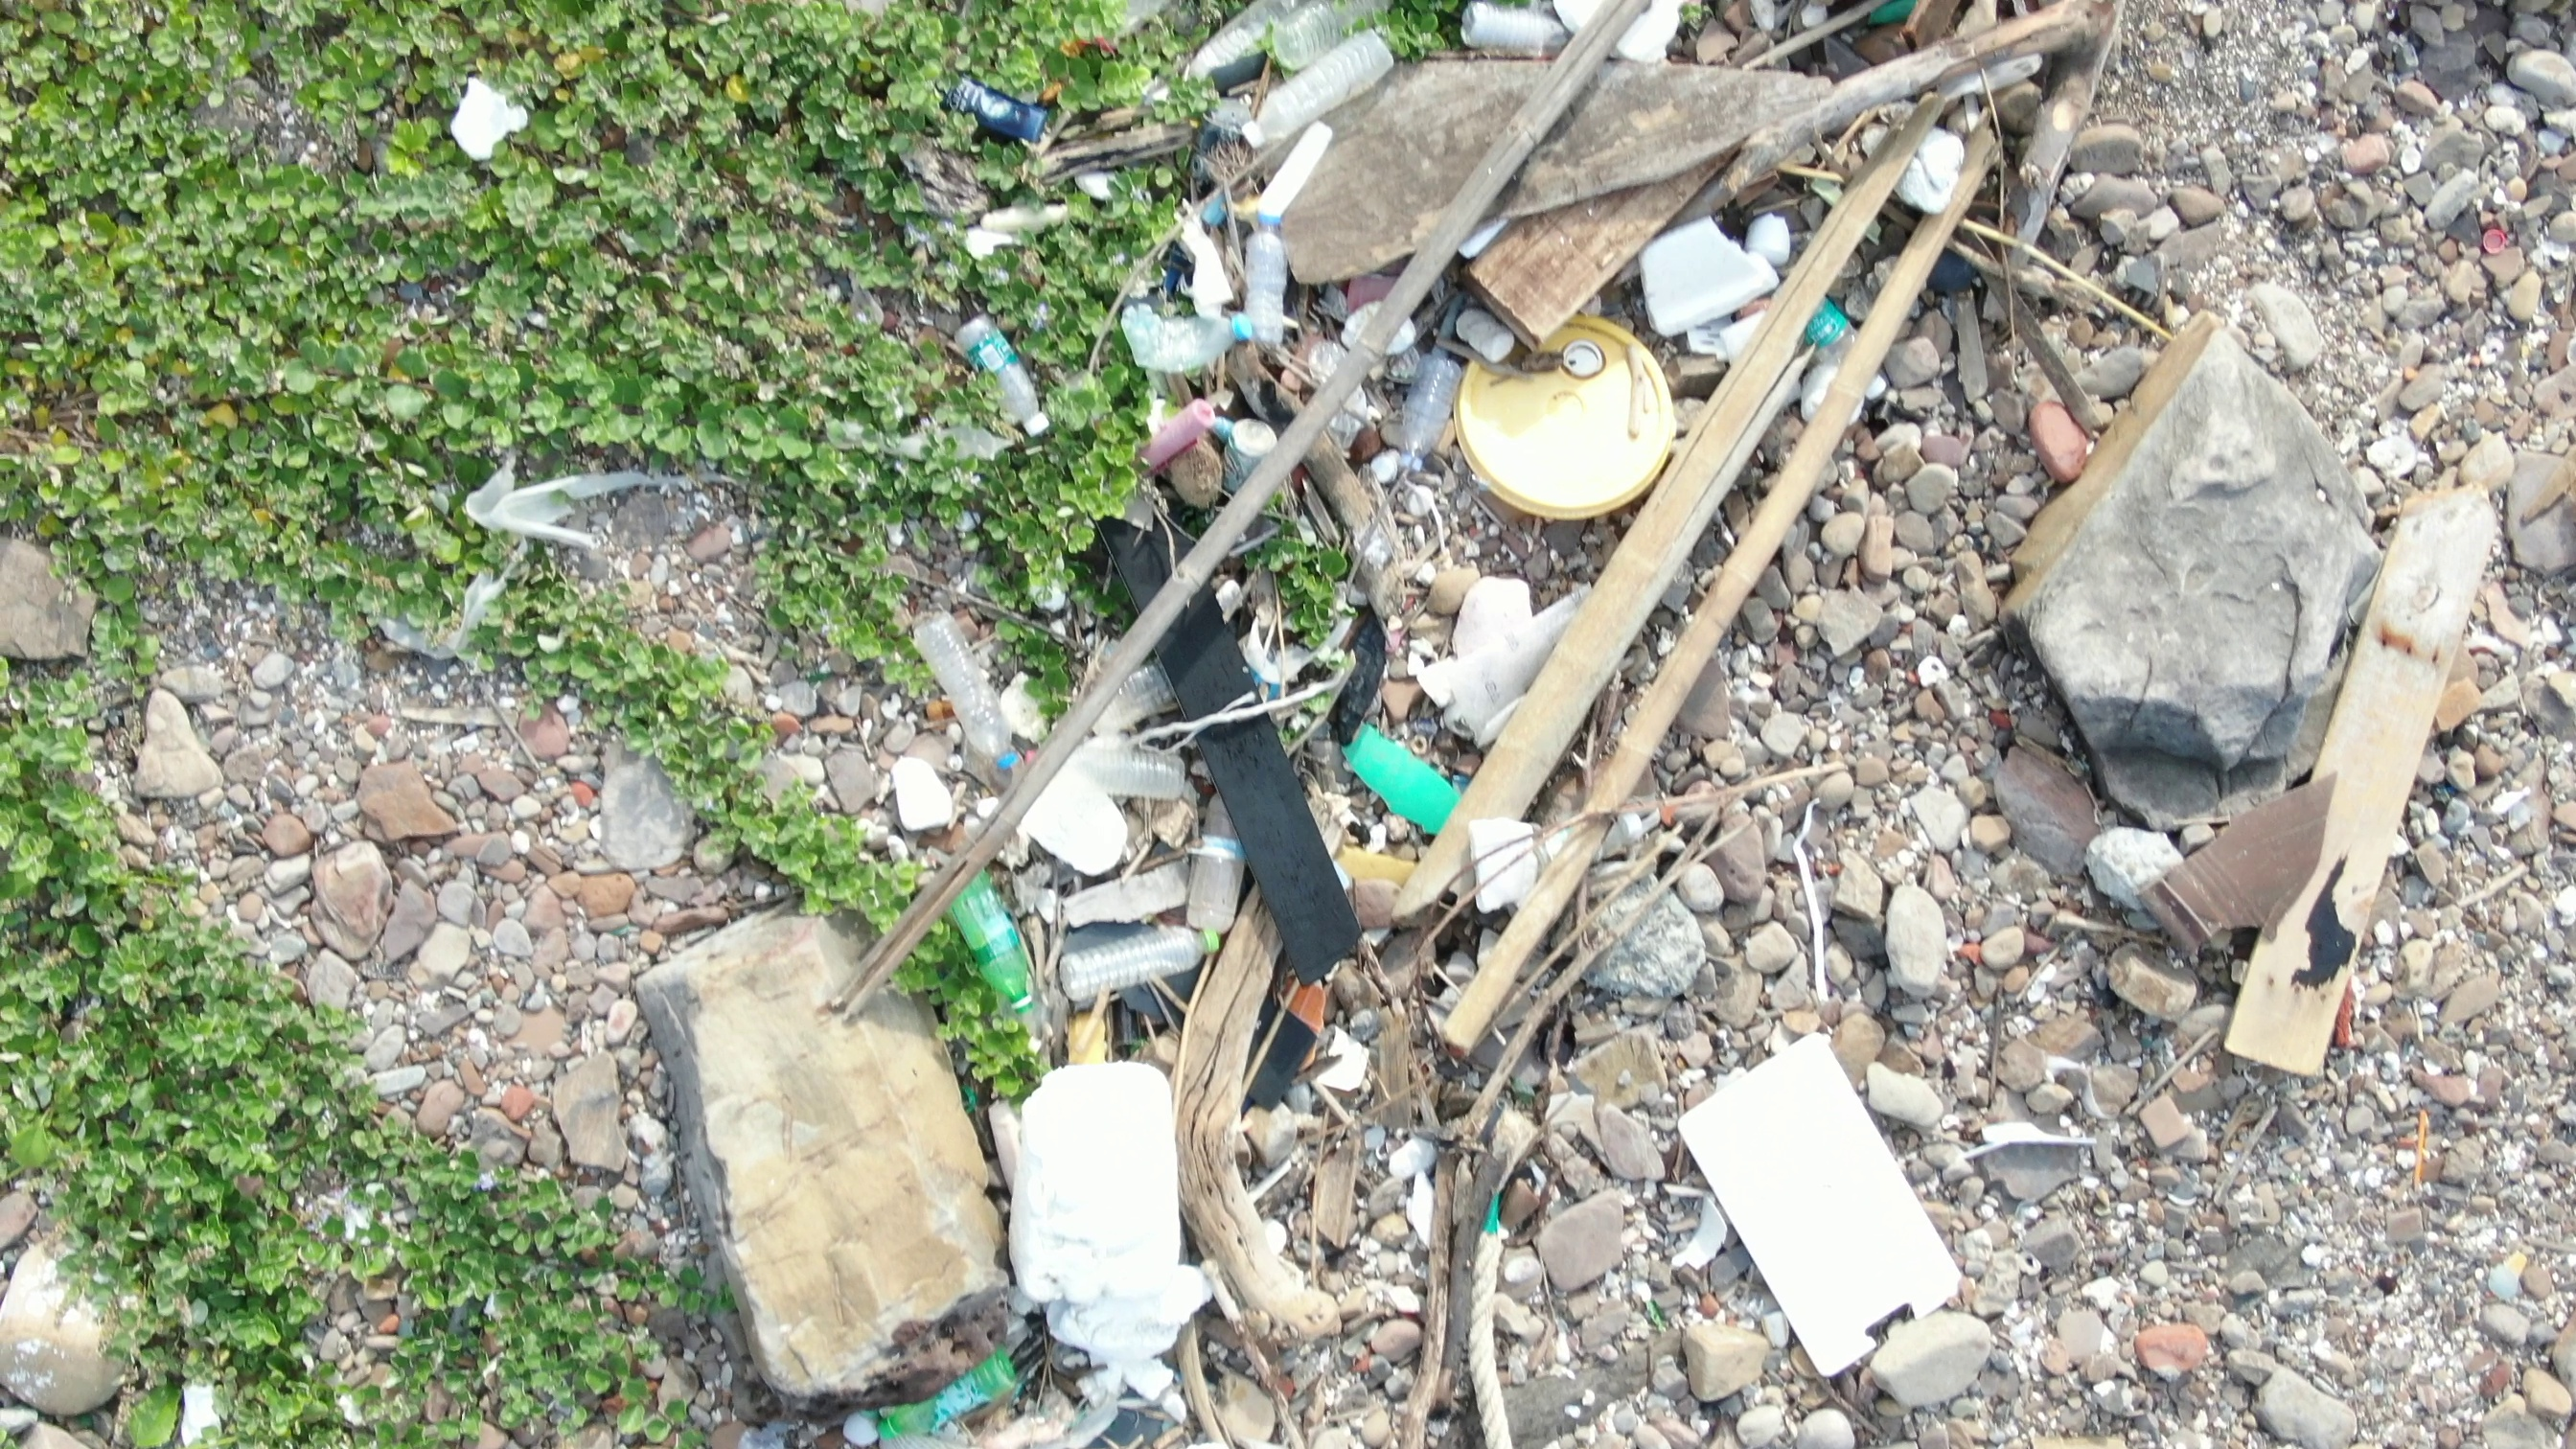bottle: (948, 849, 1056, 1037), (1237, 27, 1398, 152), (913, 612, 1019, 768), (1051, 920, 1233, 1010), (948, 306, 1054, 446), (876, 1339, 1023, 1440), (1180, 787, 1260, 939), (1394, 343, 1484, 469), (1120, 295, 1249, 372), (1069, 734, 1194, 810), (1253, 2, 1353, 90), (1237, 207, 1297, 354), (1444, 4, 1606, 55), (1083, 658, 1185, 740)
garbage: (886, 2, 2003, 1449), (384, 451, 748, 671), (439, 69, 536, 170)
